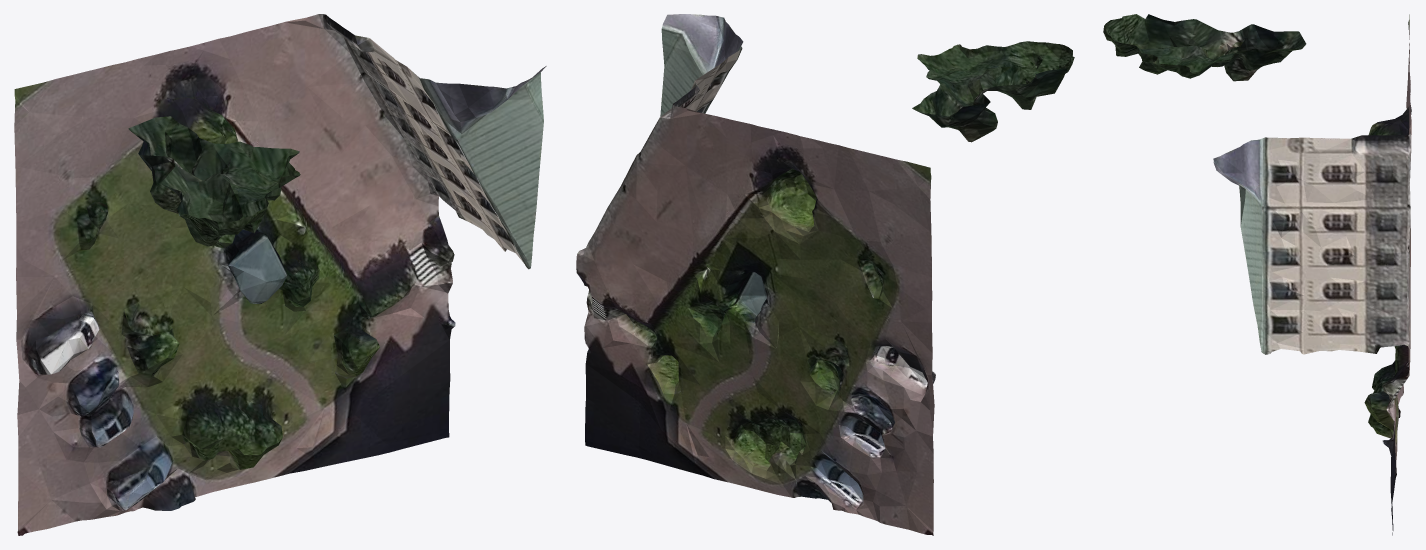
File: Tile_+031_+023_L20_0001210.obj
3 views of the same model, side by side, from view 1: azimuth 30°, elevation 25°; view 2: azimuth 150°, elevation 25°; view 3: azimuth 270°, elevation 25° (orthographic). The views are drawn at different scales.
Bounding box in the file's own units: 31.5 × 31.5 × 24.73.
1 material, 1 textured.
